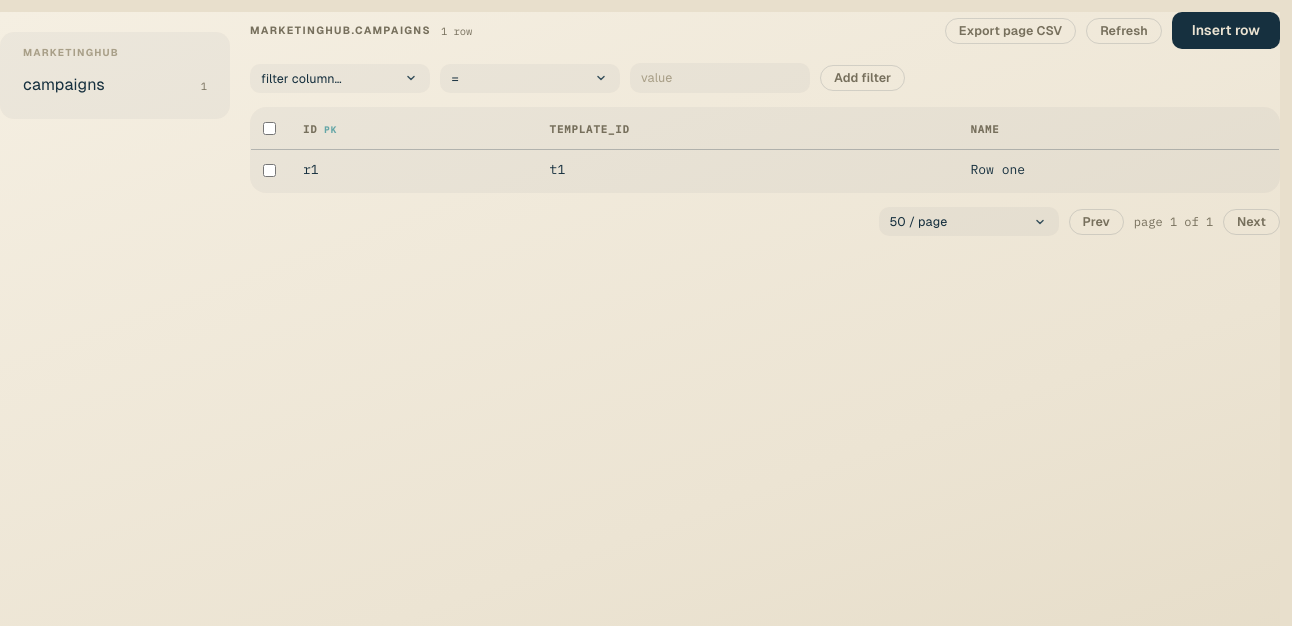
it: TableEditor FK selector › double-clicking an FK cell opens a dropdown, not a text box
Expected: the text "Row one" is shown, [954, 150, 1279, 192]
Double-click the text "t1" at x=557, y=170, box [534, 150, 954, 192]
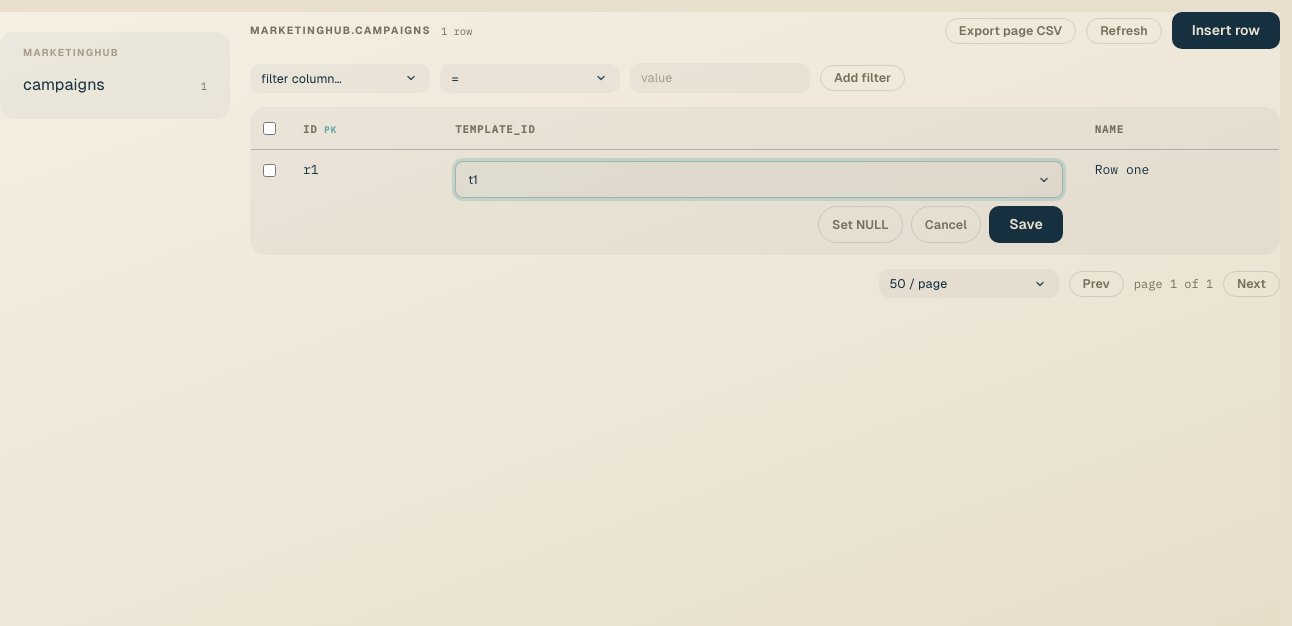
Result: the dropdown named "template_id value" is shown at [455, 161, 1063, 198]
